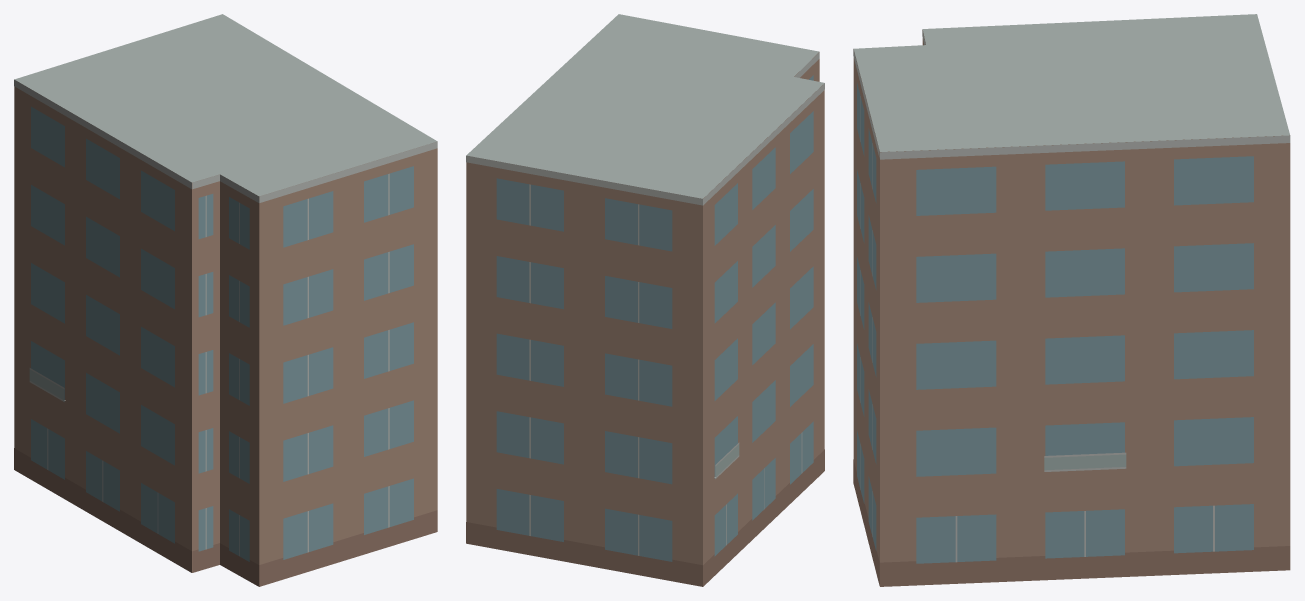
The model's file is survey-upis-32925944.glb.
3 renders of one model, left to right at view 1: azimuth 30°, elevation 25°; view 2: azimuth 150°, elevation 25°; view 3: azimuth 270°, elevation 25°, orthographic. The views are drawn at different scales.
Parts seen in each view (by area): view 1: survey-upis-32925944.tmp; view 2: survey-upis-32925944.tmp; view 3: survey-upis-32925944.tmp.
Boxes of the visible parts, <box> form: survey-upis-32925944.tmp: <box>14,14,437,586</box>; survey-upis-32925944.tmp: <box>466,14,824,586</box>; survey-upis-32925944.tmp: <box>853,14,1290,586</box>.
Bounding box in the file's own units: 9.55 × 14 × 12.75.
